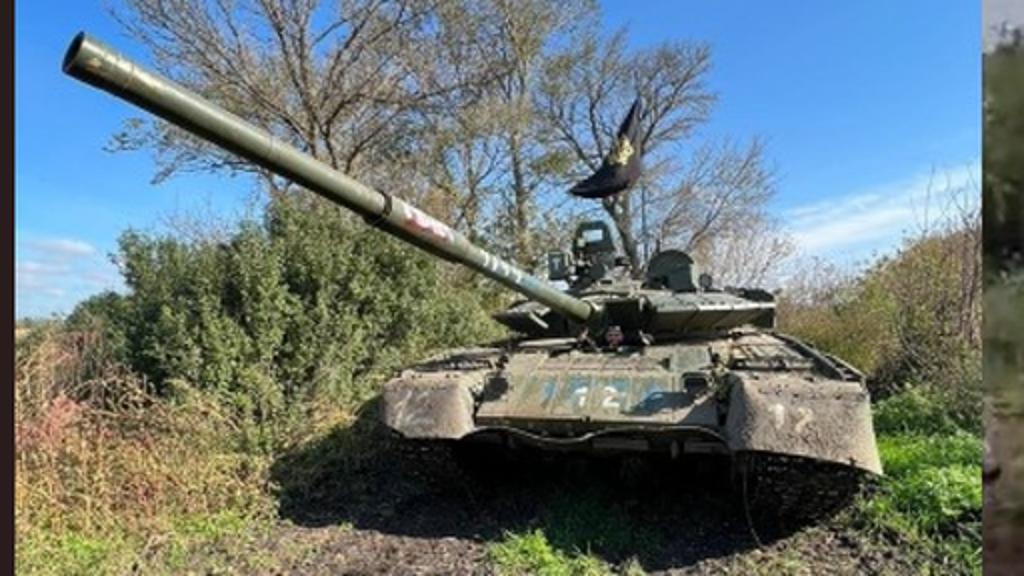TANK: (56, 28, 886, 540)
